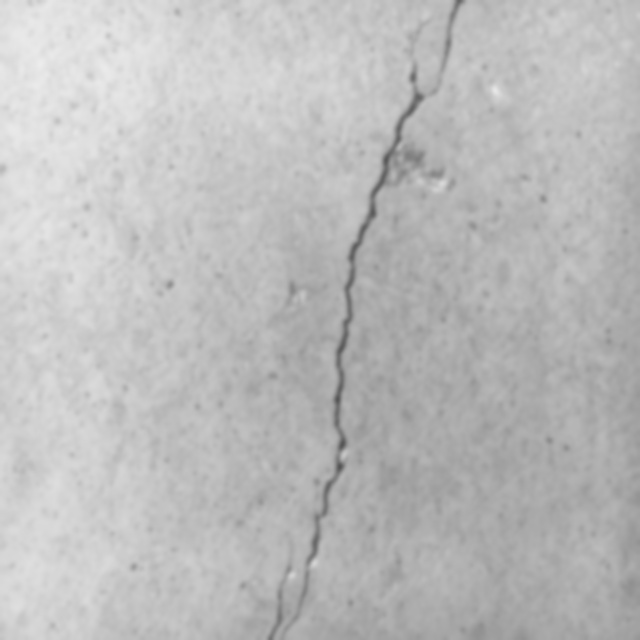SurfaceCrack: (243, 0, 495, 639)
